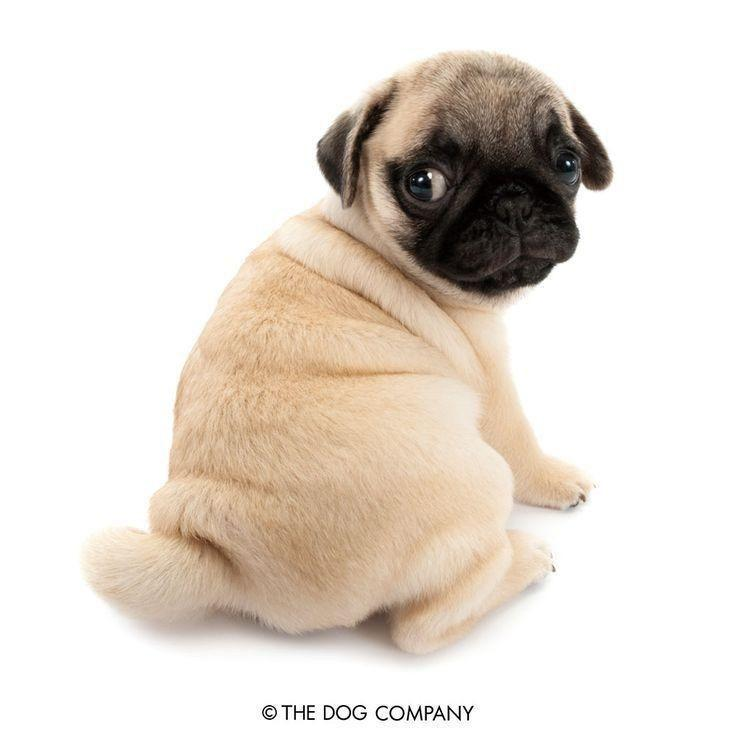puppy-dog: (76, 49, 617, 657)
